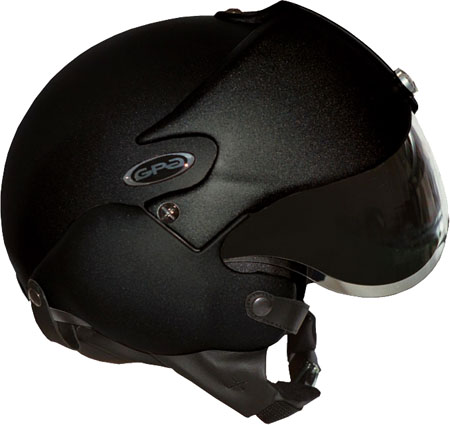helmet: (7, 28, 442, 339)
